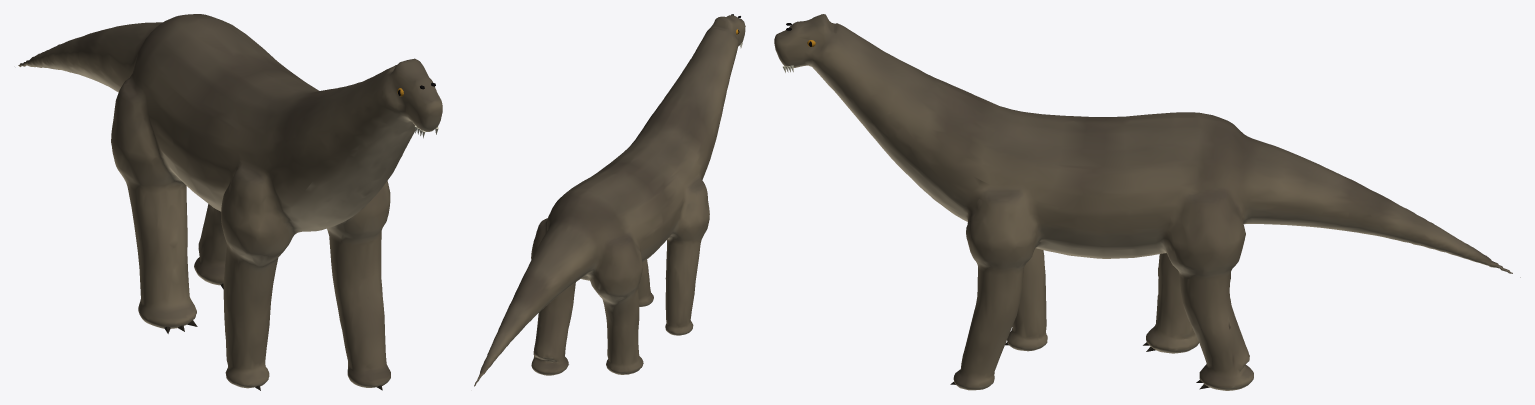
The model's file is Camarasaurus.fbx.
3 renders of one model, left to right at view 1: azimuth 30°, elevation 25°; view 2: azimuth 150°, elevation 25°; view 3: azimuth 270°, elevation 25°, orthographic. The views are drawn at different scales.
Visible parts, largest first — view 1: Camarasaurus; view 2: Camarasaurus; view 3: Camarasaurus.
Boxes of the visible parts, x1=… form: Camarasaurus: x1=18, y1=14, x2=442, y2=390; Camarasaurus: x1=474, y1=14, x2=745, y2=386; Camarasaurus: x1=774, y1=14, x2=1520, y2=390.
Size of the model in its own units: 0.8389 by 2.03 by 3.91.
